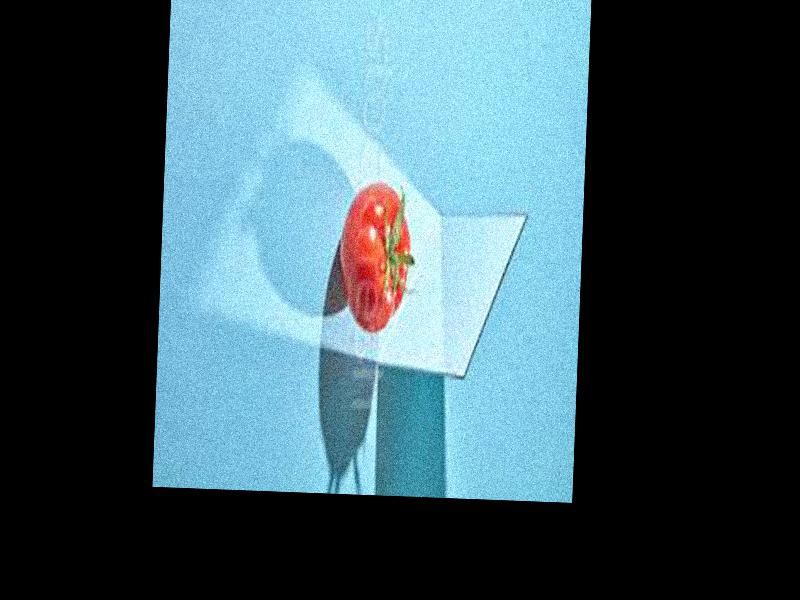Tomato: (336, 182, 412, 334)
